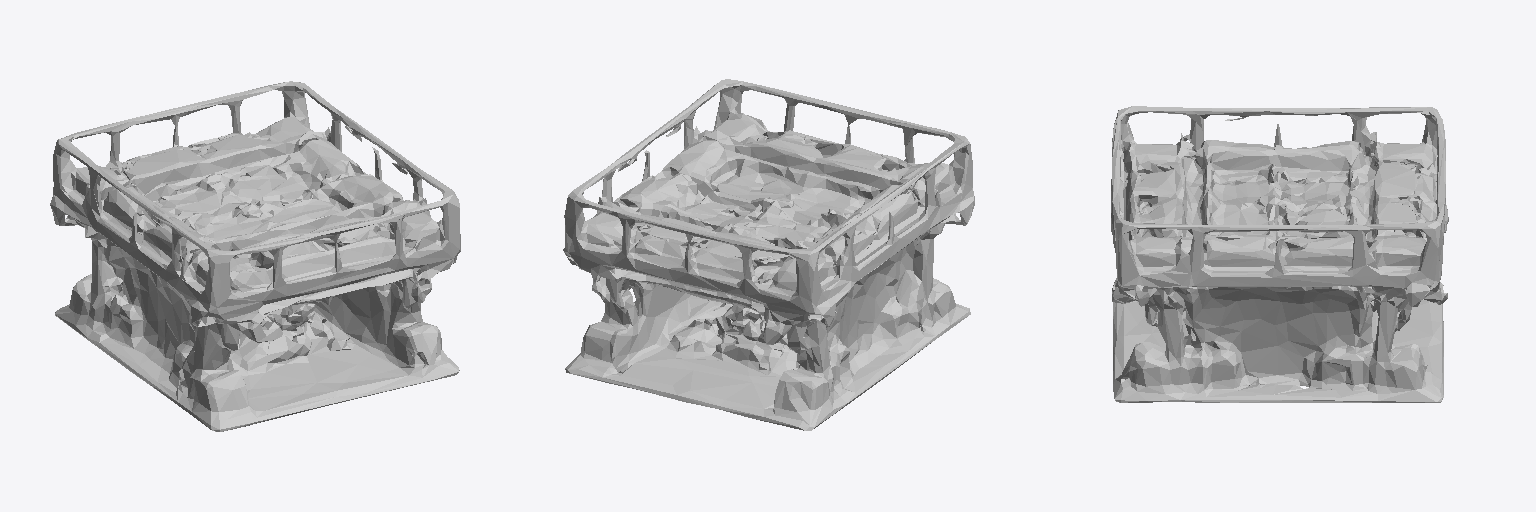
The model's file is 87c24fa42319_a_militaristic_plat.obj.
The picture shows the model from 3 angles: view 1: azimuth 30°, elevation 25°; view 2: azimuth 150°, elevation 25°; view 3: azimuth 270°, elevation 25°; orthographic projection.
Parts seen in each view (by area): view 1: mesh; view 2: mesh; view 3: mesh.
Part boxes in pixels (left/top/right/bottom): mesh: left=50, top=81, right=460, bottom=431; mesh: left=563, top=79, right=974, bottom=430; mesh: left=1111, top=106, right=1448, bottom=402.
Size of the model in its own units: 0.9054 by 0.5907 by 1.